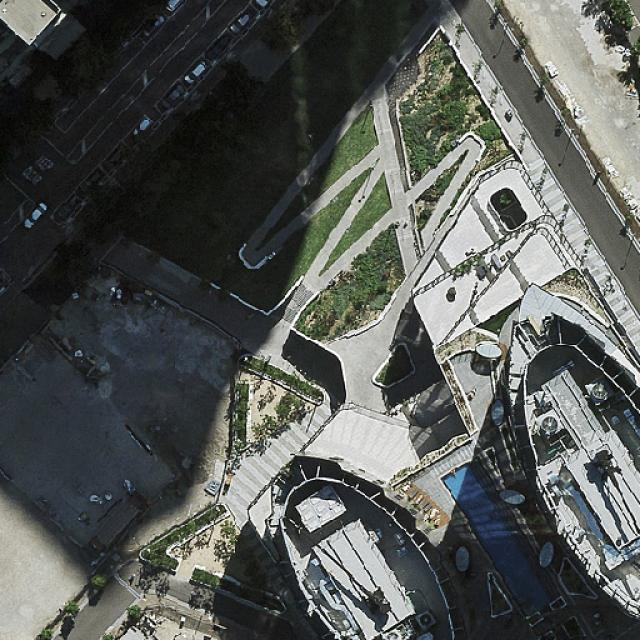Bike-Symbols: (190, 90, 203, 102), (64, 224, 76, 236), (227, 50, 238, 61)
